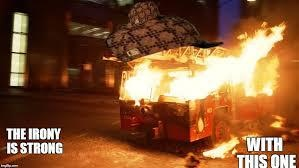fire: (121, 27, 285, 107), (200, 135, 239, 158)
